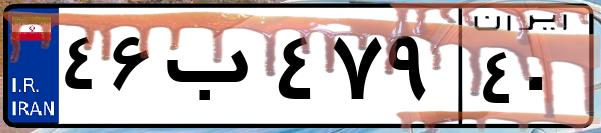0: (525, 38, 570, 115)
4: (270, 28, 330, 110), (57, 26, 110, 100), (475, 38, 525, 113)
6: (110, 28, 158, 98)
7: (330, 28, 385, 110)
9: (385, 28, 445, 110)
ب: (158, 20, 270, 120)
